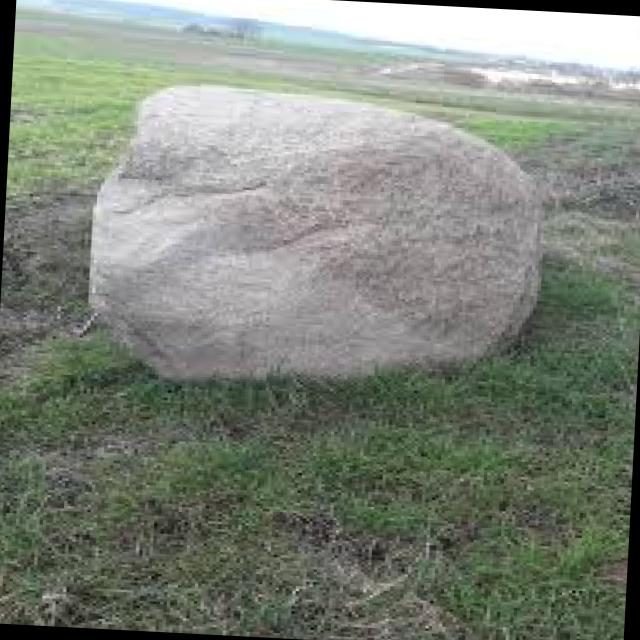grass: (0, 116, 640, 640), (6, 37, 285, 196)
stone: (95, 88, 542, 377)
